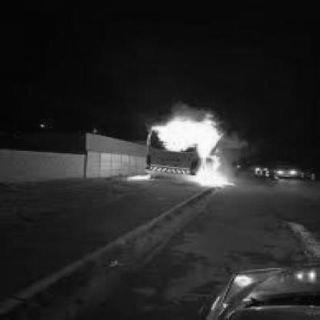Fire: (148, 101, 244, 193), (123, 168, 151, 182)
other: (264, 162, 303, 180), (283, 264, 315, 282)
